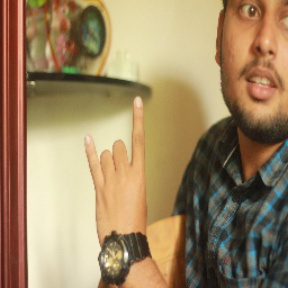V: (85, 92, 153, 238)
